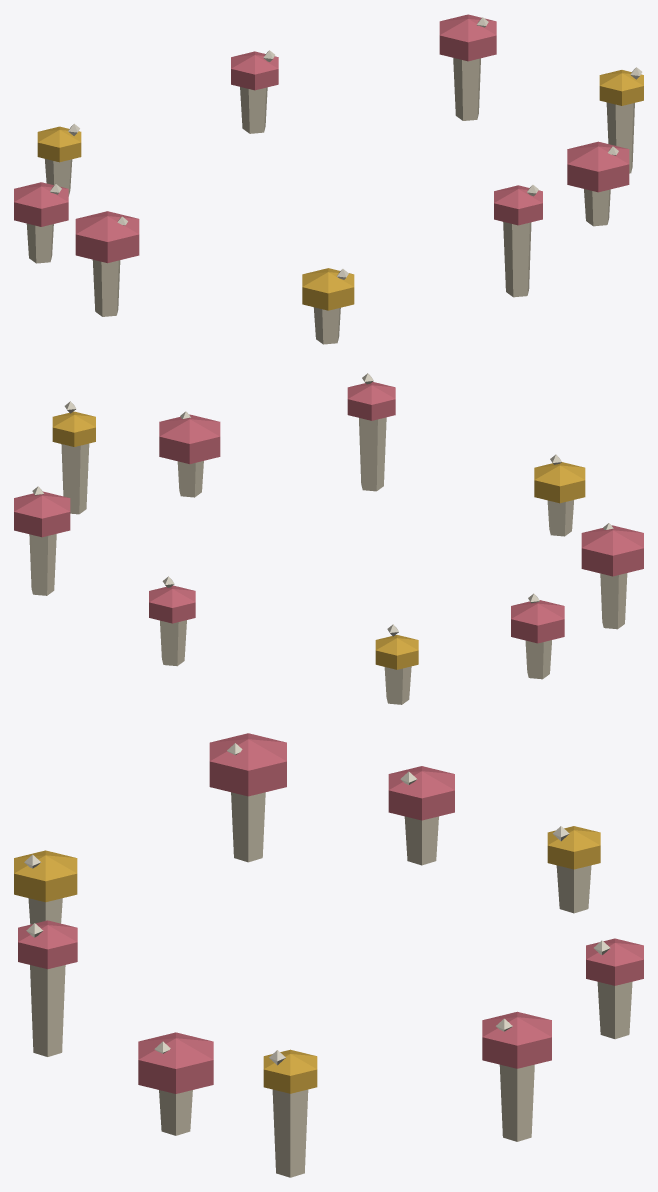
The model's file is mushroom_ring.glb.
3 views of the same model, one above another, from view 1: azimuth 30°, elevation 25°; view 2: azimuth 150°, elevation 25°; view 3: azimuth 270°, elevation 25° (orthographic). The views are drawn at different scales.
Parts seen in each view (by area): view 1: mushroom_ring; view 2: mushroom_ring; view 3: mushroom_ring.
Part boxes in pixels (bbox=[...]): mushroom_ring: bbox=[14, 14, 643, 344]; mushroom_ring: bbox=[14, 373, 643, 704]; mushroom_ring: bbox=[14, 733, 643, 1177].
Bounding box in the file's own units: 1.9 × 0.3407 × 1.46.
